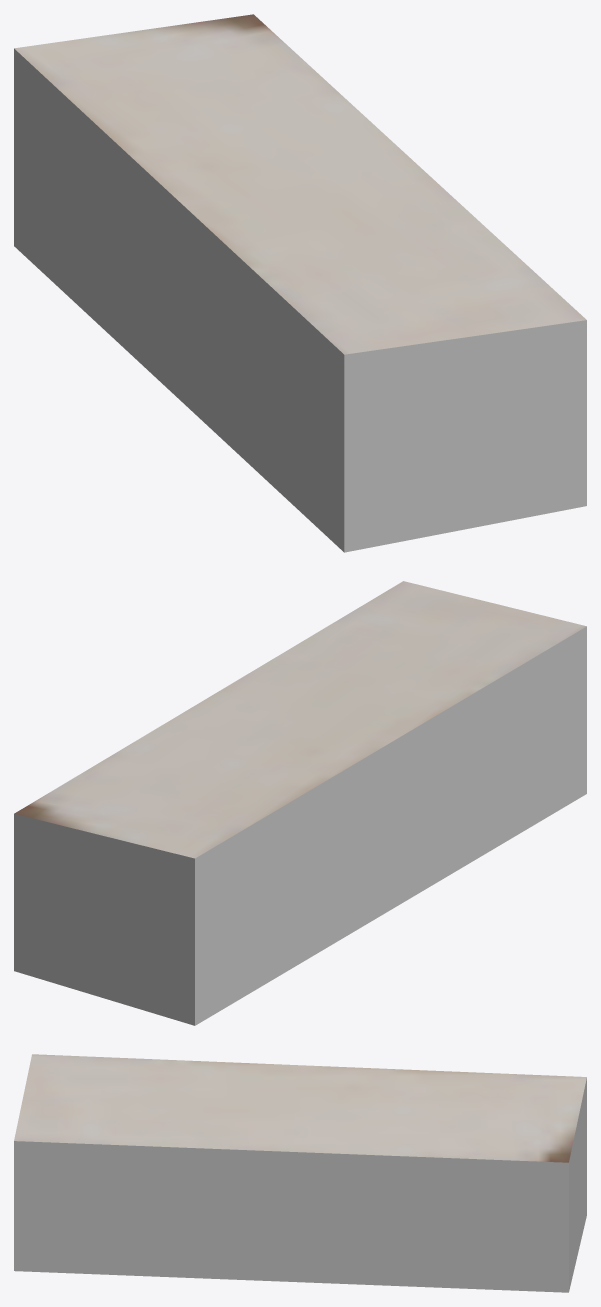
File: DEBW_0010007Tx7m.gltf
3 views of the same model, one above another, from view 1: azimuth 30°, elevation 25°; view 2: azimuth 150°, elevation 25°; view 3: azimuth 270°, elevation 25° (orthographic). The views are drawn at different scales.
Parts seen in each view (by area): view 1: Z_UP; view 2: Z_UP; view 3: Z_UP.
Part boxes in pixels (box(x1,y1,x2,y2)): Z_UP: box(14, 14, 586, 552); Z_UP: box(14, 581, 586, 1025); Z_UP: box(14, 1054, 586, 1292).
Bounding box in the file's own units: 3.93 × 2.54 × 9.51.
Materials: 2 (1 with a texture image).
